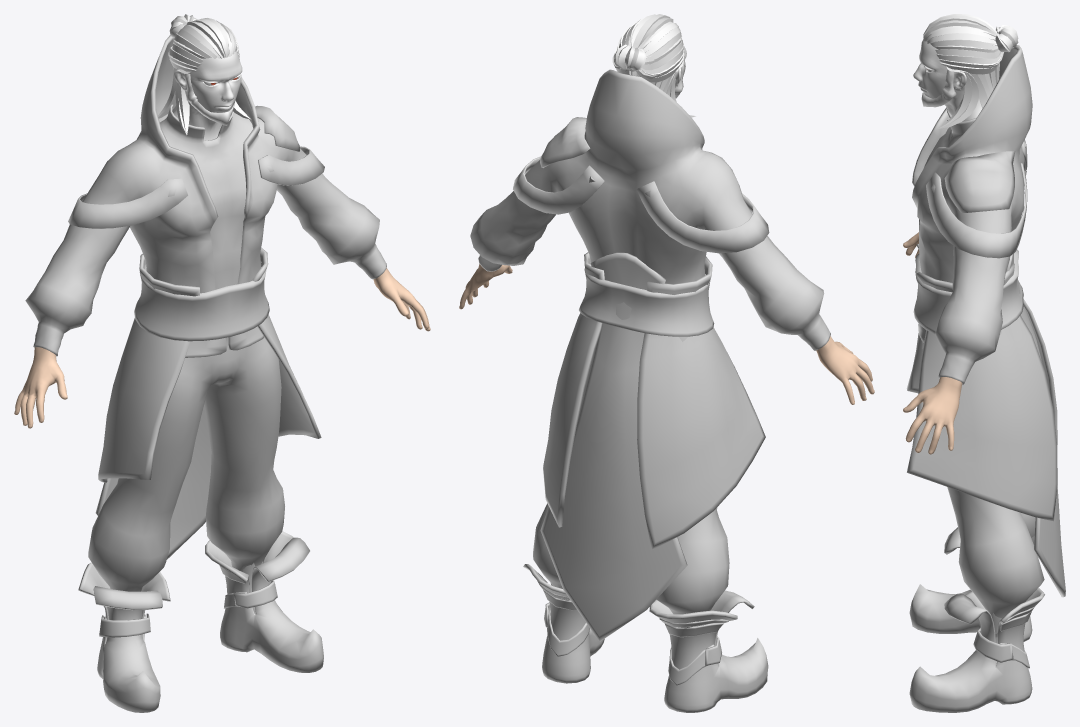
Rendered from Ober_Export.fbx.
The picture shows the model from 3 angles, left to right: view 1: azimuth 30°, elevation 25°; view 2: azimuth 150°, elevation 25°; view 3: azimuth 270°, elevation 25°; orthographic projection.
Parts seen in each view (by area): view 1: Circle.012; view 2: Circle.012; view 3: Circle.012.
Boxes of the visible parts, x1,y1,x2,y2 form: Circle.012: (14, 14, 430, 712); Circle.012: (459, 14, 874, 712); Circle.012: (903, 14, 1065, 712).
Size of the model in its own units: 1.27 by 1.96 by 0.4479.
